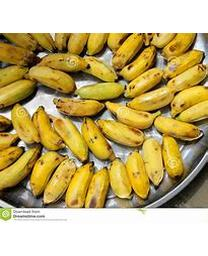banana: (0, 33, 206, 207)
